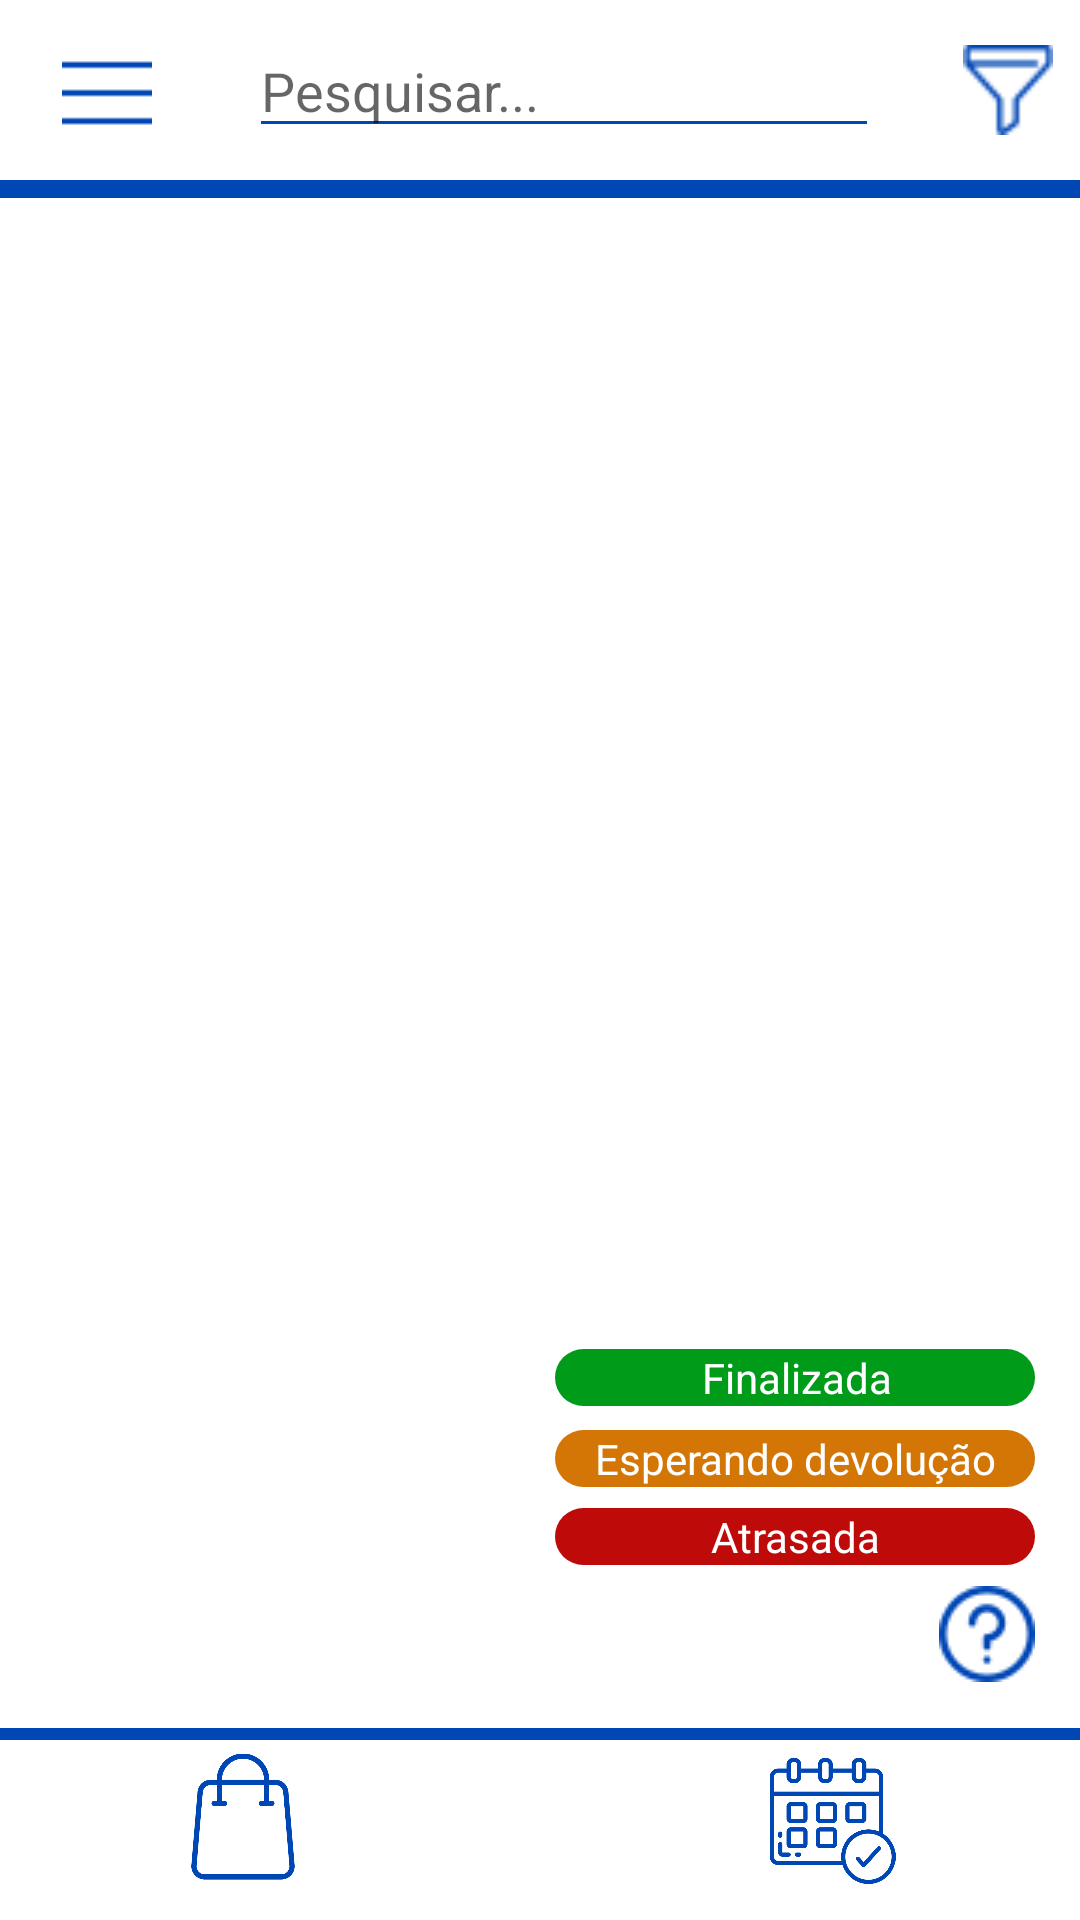

Icon bounding boxes for this 1080x1920 phone screenshot, format {"left": x1, "top": y1, "right": x2, "bottom": y2}:
bolsa de compras: {"left": 191, "top": 1754, "right": 295, "bottom": 1880}
data limite: {"left": 770, "top": 1758, "right": 896, "bottom": 1884}
filtro: {"left": 963, "top": 45, "right": 1053, "bottom": 135}
menu: {"left": 62, "top": 61, "right": 152, "bottom": 125}
sinal de interrogacao: {"left": 939, "top": 1586, "right": 1035, "bottom": 1682}
